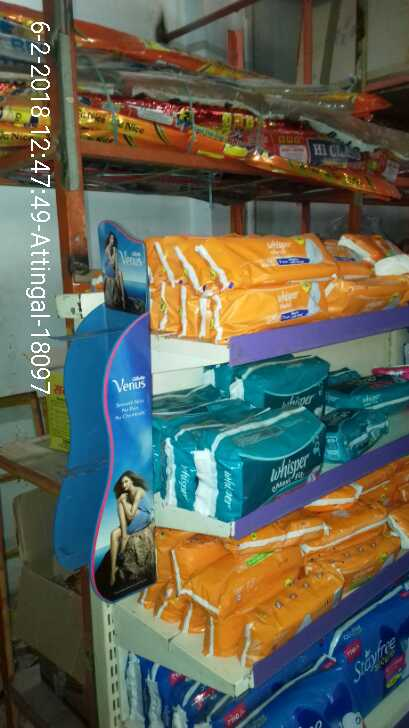whisper: (209, 412, 333, 518), (205, 268, 320, 334), (196, 232, 345, 280), (242, 358, 339, 412), (331, 269, 407, 311)
